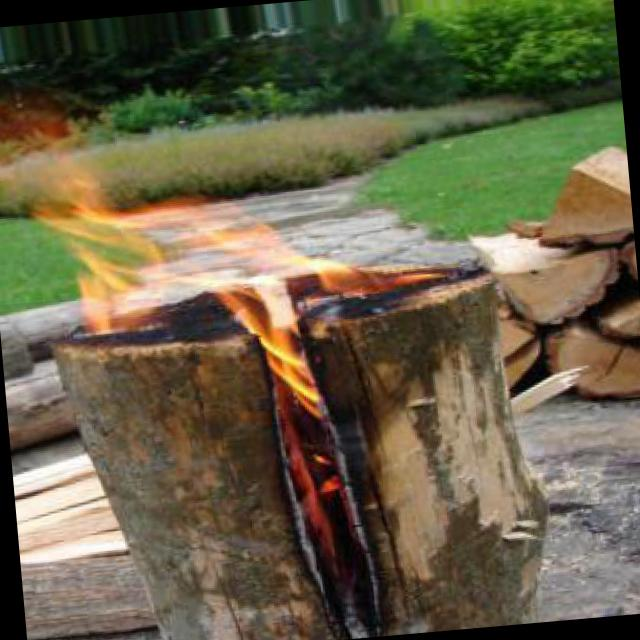fire: (24, 125, 442, 412)
